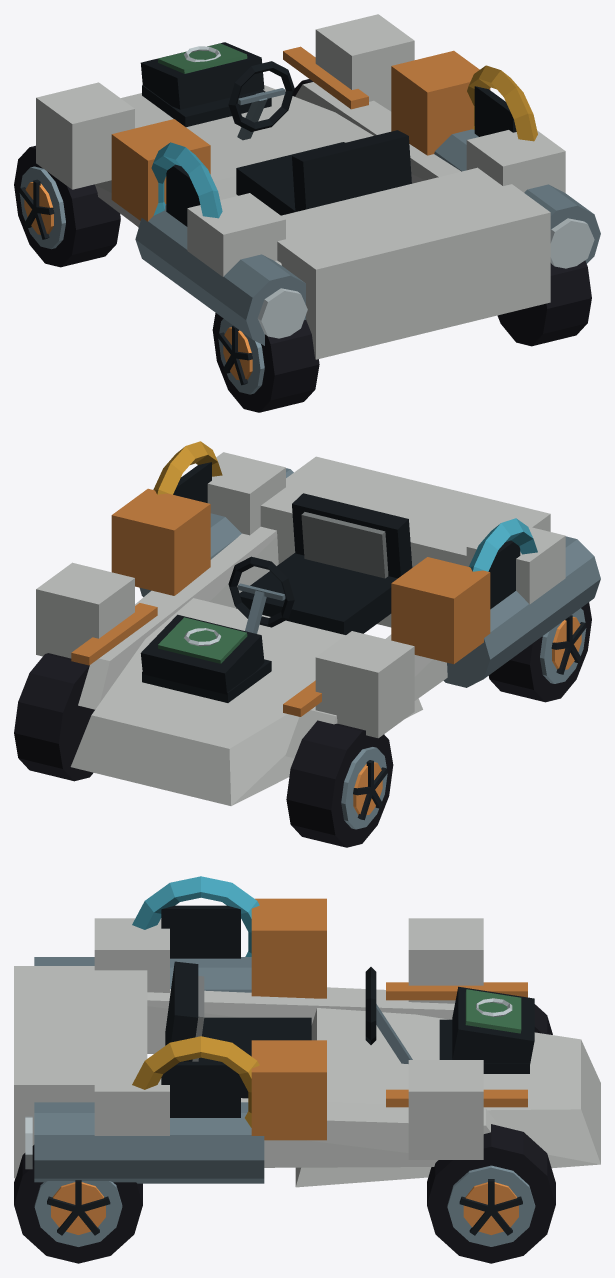
File: kart.glb
The picture shows the model from 3 angles, top to bottom: view 1: azimuth 30°, elevation 25°; view 2: azimuth 150°, elevation 25°; view 3: azimuth 270°, elevation 25°; orthographic projection. The views are drawn at different scales.
Visible parts, largest first — view 1: identity-lab-pod-lab-pod-segmented-shell, identity-lab-pod-motif-blocks, identity-lab-pod-driver-cockpit, wheel-front-left, identity-lab-pod-motif-portal-rings, wheel-rear-left, identity-lab-pod-motif-scanner, wheel-rear-right; view 2: identity-lab-pod-lab-pod-segmented-shell, identity-lab-pod-motif-blocks, identity-lab-pod-driver-cockpit, wheel-front-left, wheel-front-right, identity-lab-pod-motif-scanner, identity-lab-pod-motif-portal-rings, wheel-rear-left; view 3: identity-lab-pod-lab-pod-segmented-shell, identity-lab-pod-motif-blocks, identity-lab-pod-motif-portal-rings, wheel-front-right, wheel-rear-right, identity-lab-pod-driver-cockpit, identity-lab-pod-motif-scanner.
Boxes of the visible parts, box(x1,y1,x2,y2) form: identity-lab-pod-lab-pod-segmented-shell: box(95, 46, 600, 359); identity-lab-pod-motif-blocks: box(36, 14, 565, 276); identity-lab-pod-driver-cockpit: box(228, 61, 411, 215); wheel-front-left: box(14, 145, 120, 267); identity-lab-pod-motif-portal-rings: box(151, 65, 537, 226); wheel-rear-left: box(212, 313, 319, 412); identity-lab-pod-motif-scanner: box(140, 42, 264, 109); wheel-rear-right: box(497, 260, 591, 346); identity-lab-pod-lab-pod-segmented-shell: box(70, 456, 600, 805); identity-lab-pod-motif-blocks: box(36, 452, 565, 738); identity-lab-pod-driver-cockpit: box(228, 493, 412, 634); wheel-front-left: box(286, 720, 393, 847); wheel-front-right: box(14, 653, 94, 781); identity-lab-pod-motif-scanner: box(140, 614, 264, 694); identity-lab-pod-motif-portal-rings: box(153, 441, 537, 609); wheel-rear-left: box(489, 602, 591, 702); identity-lab-pod-lab-pod-segmented-shell: box(14, 957, 600, 1187); identity-lab-pod-motif-blocks: box(94, 898, 483, 1159); identity-lab-pod-motif-portal-rings: box(132, 876, 259, 1127); wheel-front-right: box(427, 1124, 555, 1263); wheel-rear-right: box(14, 1145, 142, 1263); identity-lab-pod-driver-cockpit: box(165, 961, 412, 1098); identity-lab-pod-motif-scanner: box(452, 986, 534, 1063).
Size of the model in its own units: 1.98 by 1.16 by 2.73.
